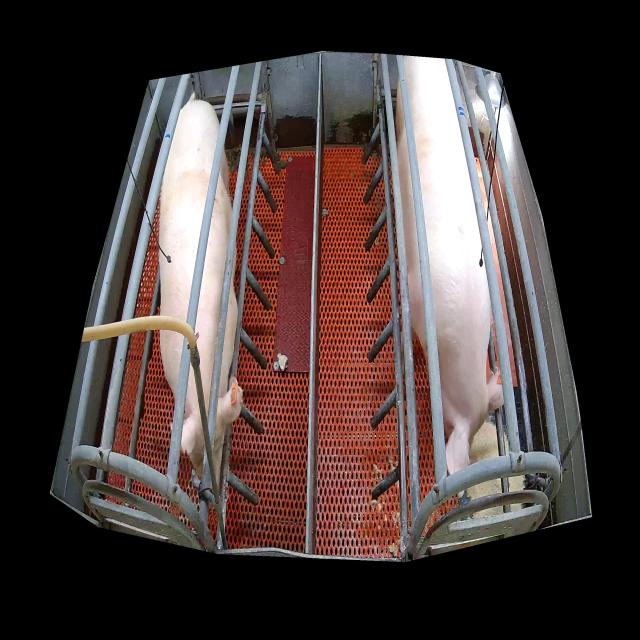pig: (395, 56, 504, 474), (160, 100, 243, 495)
